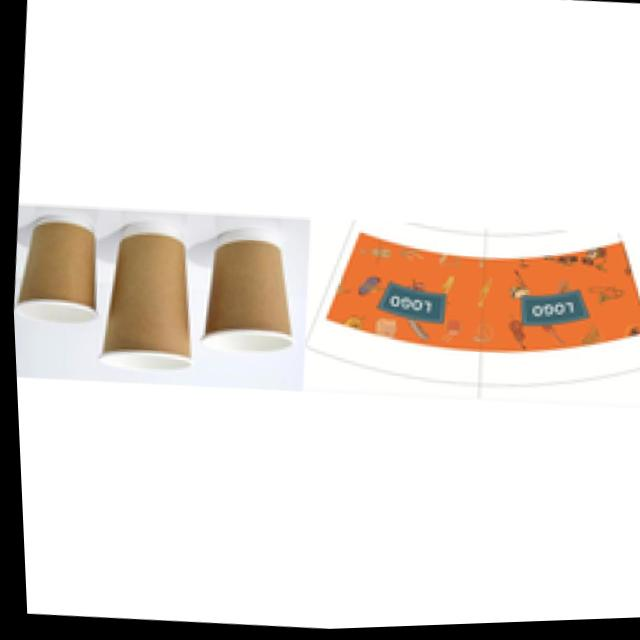paper_cups: (88, 217, 202, 381), (194, 228, 298, 361), (10, 214, 102, 327)
